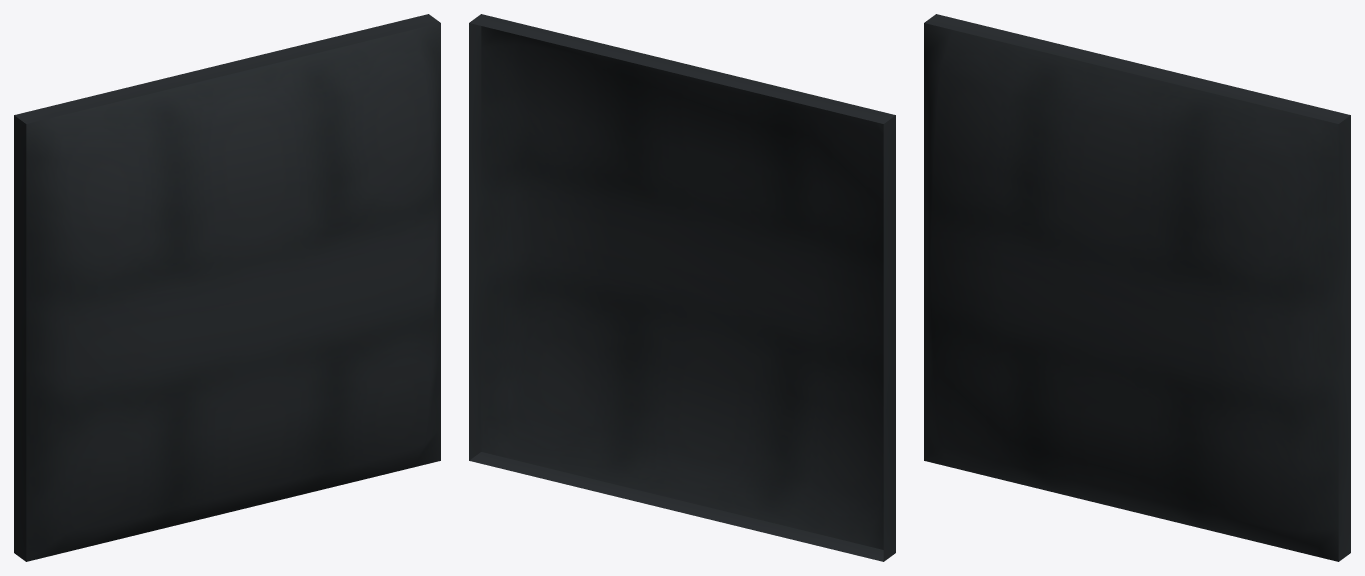
The model's file is Interior_4_scifi_A_BS.fbx.
3 views of the same model, side by side, from view 1: azimuth 30°, elevation 25°; view 2: azimuth 150°, elevation 25°; view 3: azimuth 330°, elevation 25° (orthographic).
Visible parts, largest first — view 1: Interior_4_scifi_A_BS; view 2: Interior_4_scifi_A_BS; view 3: Interior_4_scifi_A_BS.
Part boxes in pixels (bbox=[...]): Interior_4_scifi_A_BS: bbox=[14, 14, 440, 561]; Interior_4_scifi_A_BS: bbox=[469, 14, 895, 561]; Interior_4_scifi_A_BS: bbox=[924, 14, 1350, 561].
Size of the model in its own units: 195 by 196 by 32.14.
